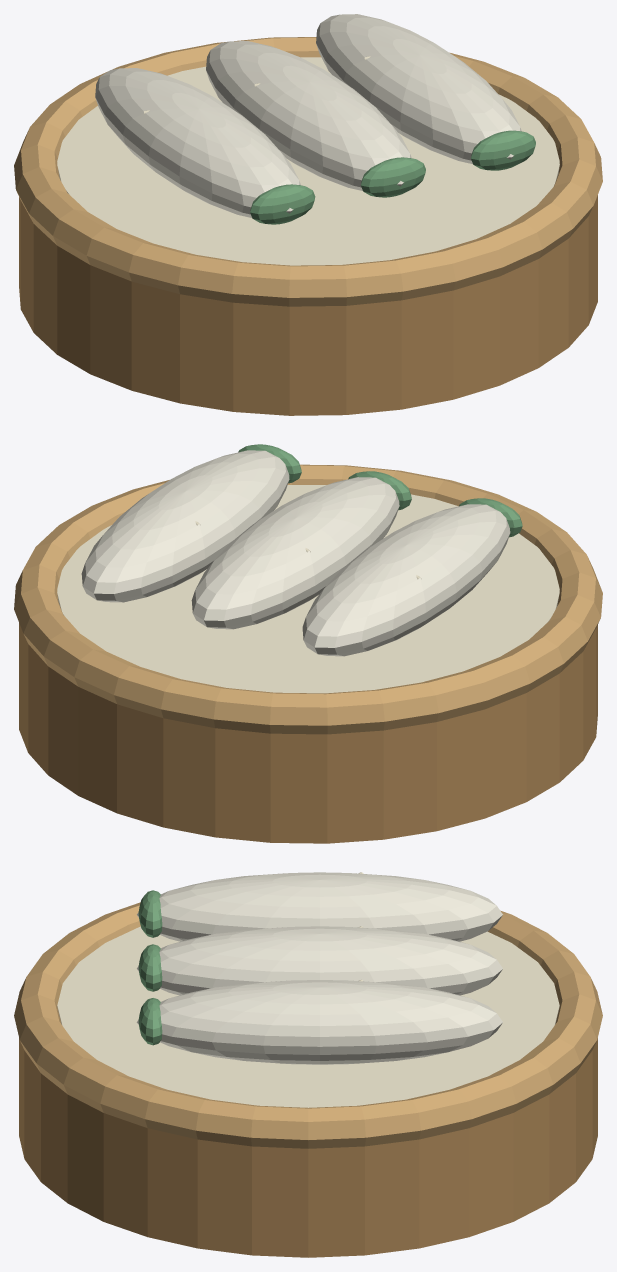
The model's file is steamer_rice_roll.glb.
3 views of the same model, one above another, from view 1: azimuth 30°, elevation 25°; view 2: azimuth 150°, elevation 25°; view 3: azimuth 270°, elevation 25° (orthographic).
Parts seen in each view (by area): view 1: steamer_base, steamer_upper_lip, parchment, folded_sheet_0, folded_sheet_1, folded_sheet_2, green_filling_tip_2, green_filling_tip_0, green_filling_tip_1; view 2: steamer_base, steamer_upper_lip, parchment, folded_sheet_0, folded_sheet_1, folded_sheet_2, green_filling_tip_0, green_filling_tip_1, green_filling_tip_2; view 3: steamer_base, steamer_upper_lip, parchment, folded_sheet_2, folded_sheet_0, folded_sheet_1, green_filling_tip_2, green_filling_tip_0, green_filling_tip_1.
Part boxes in pixels (<box>): steamer_base: <box>19,195,597,415</box>; steamer_upper_lip: <box>14,37,602,306</box>; parchment: <box>57,57,559,265</box>; folded_sheet_0: <box>95,68,300,217</box>; folded_sheet_1: <box>206,41,411,190</box>; folded_sheet_2: <box>316,14,521,163</box>; green_filling_tip_2: <box>471,130,535,170</box>; green_filling_tip_0: <box>250,184,315,224</box>; green_filling_tip_1: <box>361,157,425,197</box>; steamer_base: <box>19,623,597,843</box>; steamer_upper_lip: <box>14,464,602,734</box>; parchment: <box>57,485,559,693</box>; folded_sheet_0: <box>302,504,510,656</box>; folded_sheet_1: <box>191,477,399,629</box>; folded_sheet_2: <box>81,450,289,602</box>; green_filling_tip_0: <box>459,498,522,537</box>; green_filling_tip_1: <box>348,471,411,510</box>; green_filling_tip_2: <box>238,444,301,483</box>; steamer_base: <box>19,1038,597,1257</box>; steamer_upper_lip: <box>14,902,602,1148</box>; parchment: <box>57,926,559,1107</box>; folded_sheet_2: <box>136,980,502,1064</box>; folded_sheet_0: <box>137,872,502,941</box>; folded_sheet_1: <box>137,926,502,995</box>; green_filling_tip_2: <box>138,998,162,1045</box>; green_filling_tip_0: <box>138,890,162,937</box>; green_filling_tip_1: <box>138,944,162,991</box>.
Bounding box in the file's own units: 0.72 × 0.2765 × 0.72.
